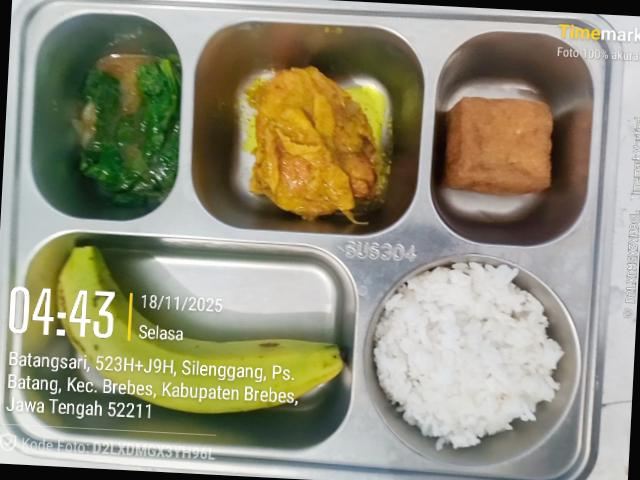ayam: (250, 67, 383, 223)
buah: (57, 247, 343, 413)
nasi: (373, 263, 563, 449)
sayur: (30, 13, 177, 219), (80, 59, 180, 206)
tahu: (444, 97, 552, 195)
